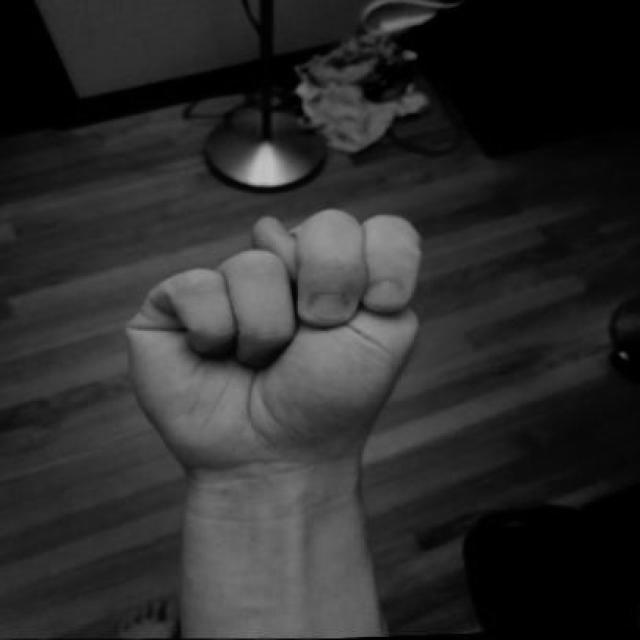N: (109, 198, 434, 492)
